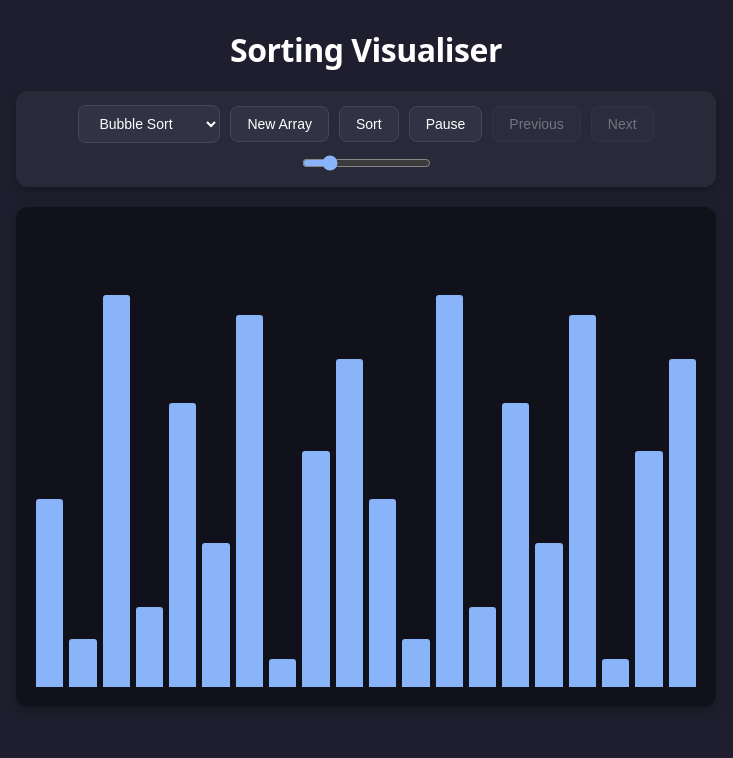
Scenario: New Array button › stops a running sort and clears the stats
Click the button "Sort" at (369, 124), box x1=339 y1=106 x2=399 y2=142
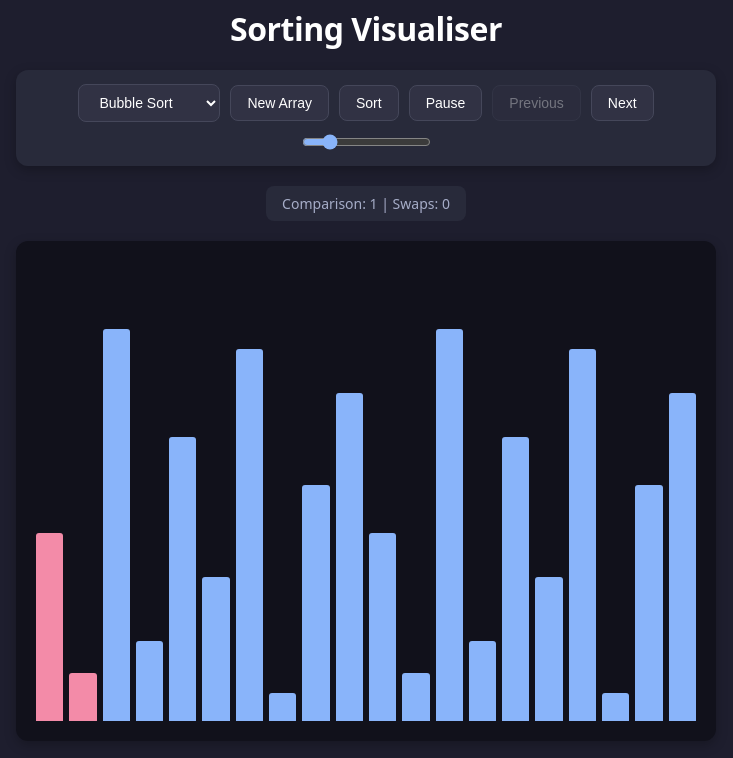
Check: the element with class "stats" does not show ""
Click the button "New Array" at (280, 103), box x1=230 y1=85 x2=329 y2=121
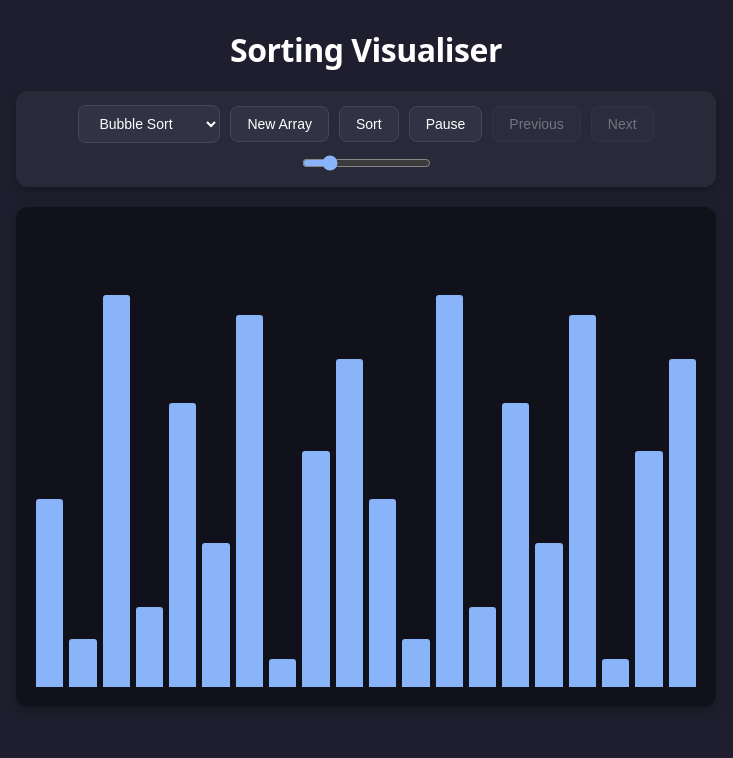
Check: the text with class "stats" is gone
Check: the button "Next" is disabled, box x1=591 y1=106 x2=654 y2=142
